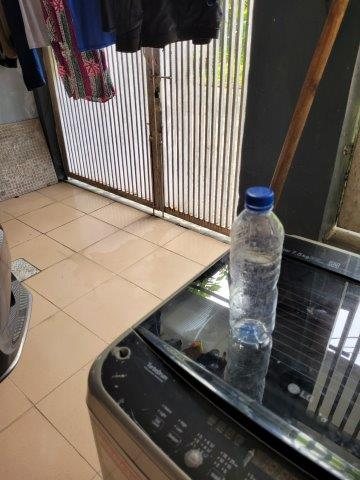botolplastik: (230, 188, 282, 345)
